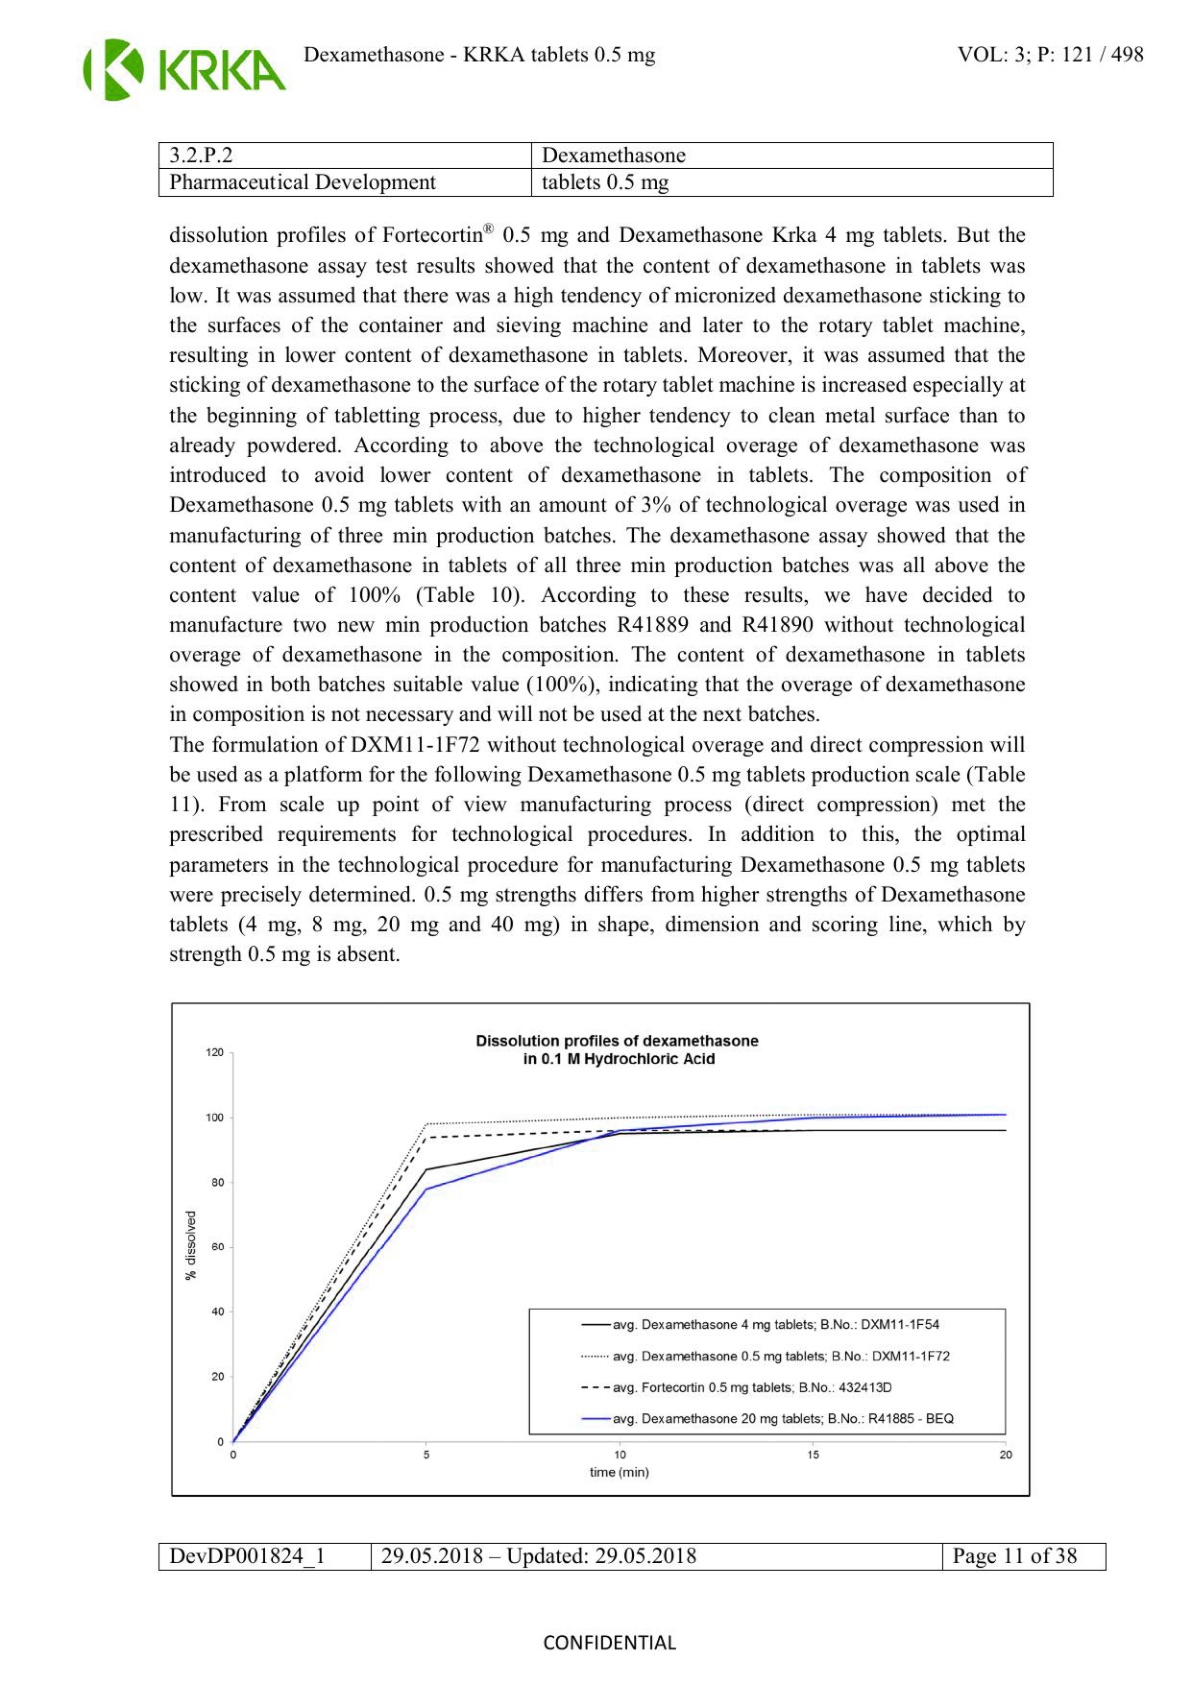full_lined: (143, 134, 1069, 208), (142, 1536, 1115, 1578)
